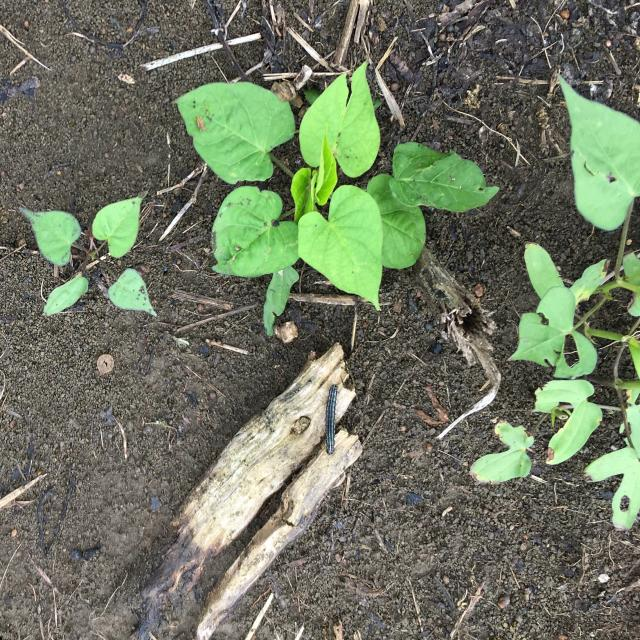MorningGlory: (173, 61, 500, 336), (471, 73, 640, 531), (18, 191, 157, 316)
